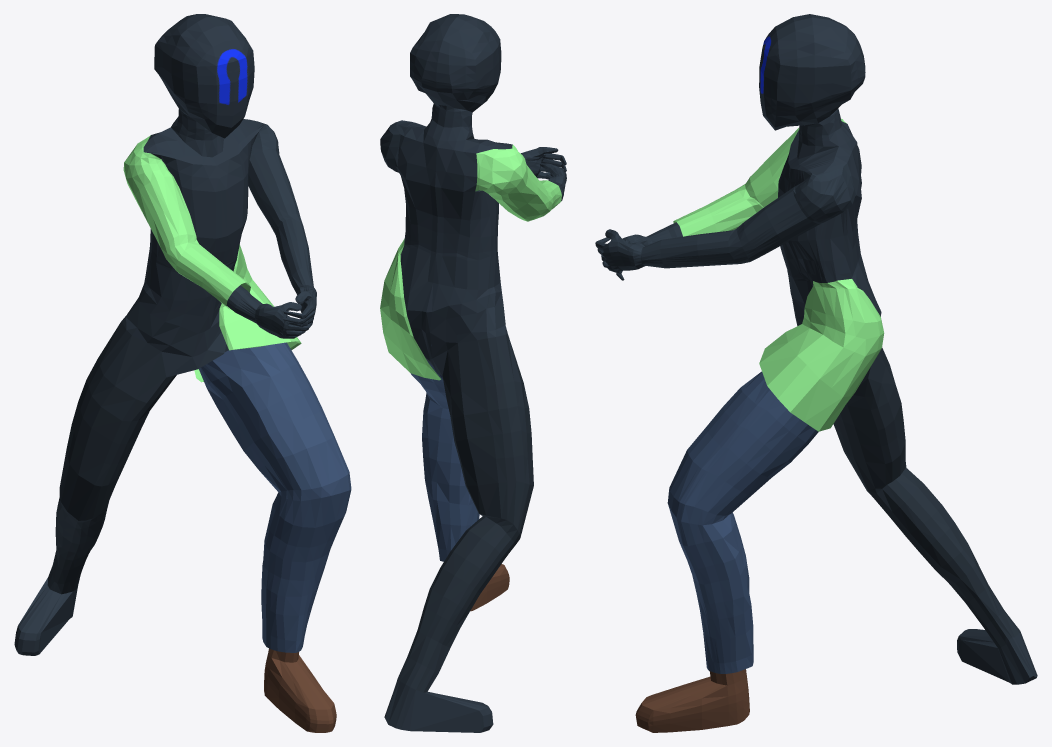
Rendered from Mar_Attack_000033.obj.
3 views of the same model, side by side, from view 1: azimuth 30°, elevation 25°; view 2: azimuth 150°, elevation 25°; view 3: azimuth 270°, elevation 25° (orthographic). The views are drawn at different scales.
Parts seen in each view (by area): view 1: Cube.000_Cube.001; view 2: Cube.000_Cube.001; view 3: Cube.000_Cube.001.
Part boxes in pixels (x1,y1,x2,y2): Cube.000_Cube.001: (14,14,351,732); Cube.000_Cube.001: (380,14,566,732); Cube.000_Cube.001: (595,14,1037,732).
Size of the model in its own units: 1.14 by 3.65 by 2.11.
